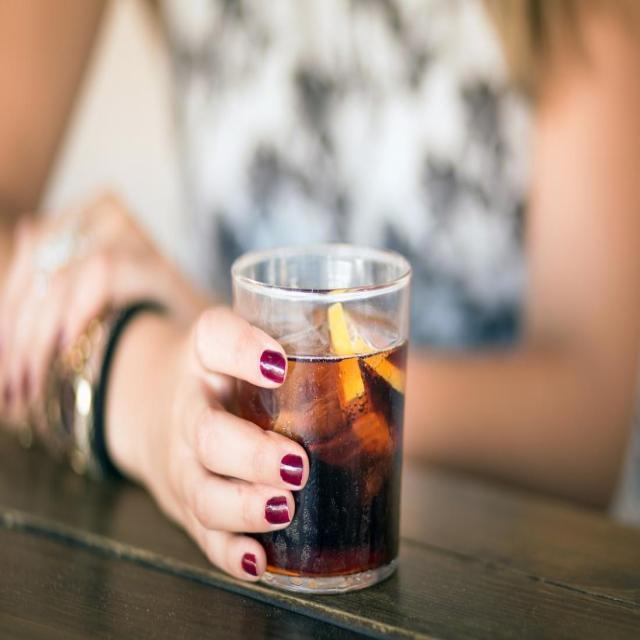Coke: (229, 240, 413, 600)
